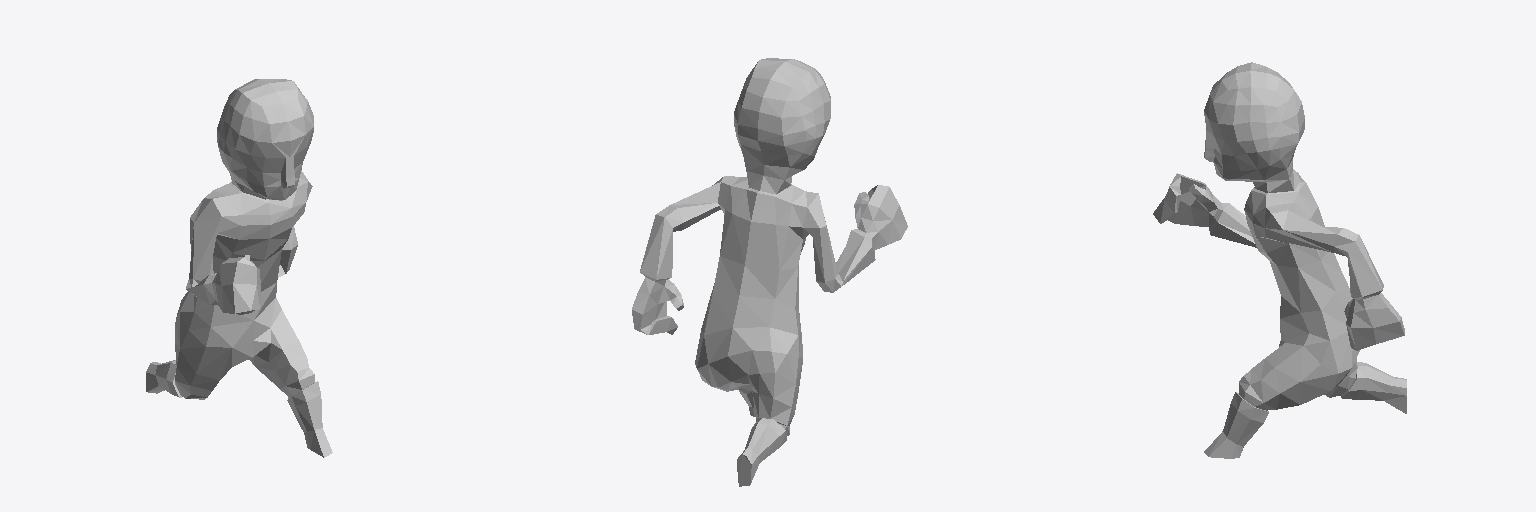
The model's file is KnightCharacter14.obj.
3 views of the same model, side by side, from view 1: azimuth 30°, elevation 25°; view 2: azimuth 150°, elevation 25°; view 3: azimuth 270°, elevation 25° (orthographic).
Parts seen in each view (by area): view 1: Knight; view 2: Knight; view 3: Knight.
Part boxes in pixels (x1,y1,x2,y2): Knight: (146, 79, 332, 457); Knight: (632, 58, 907, 486); Knight: (1153, 62, 1406, 458).
Bounding box in the file's own units: 2.4 × 5.09 × 3.19.